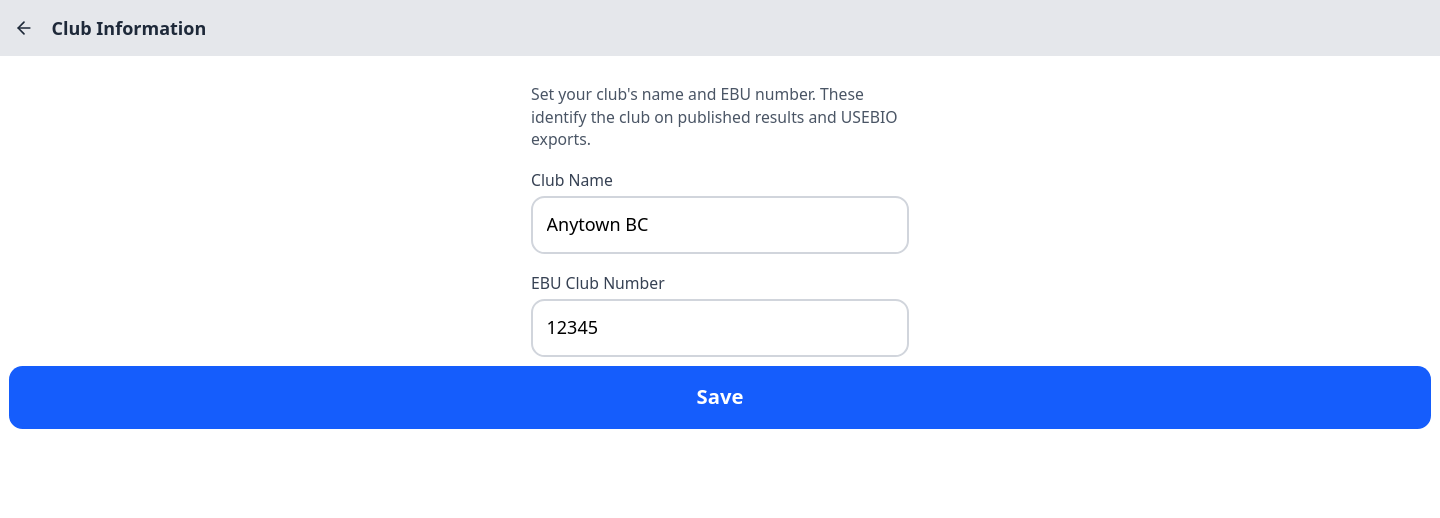
ClubSettingsPage › clears the admin token and prompts to re-enter it on a 401
This screenshot has width=1440, height=518.
Click the button "Save" at (720, 397), box x1=9 y1=366 x2=1431 y2=428
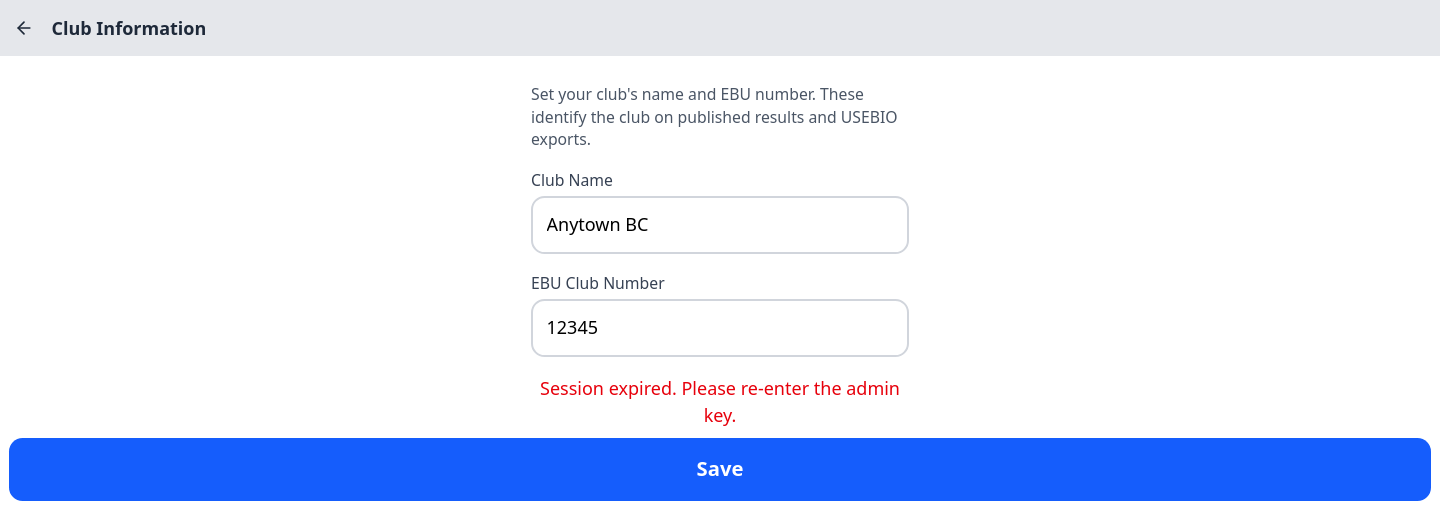
Now the text "Session expired. Please re-enter the admin key." is shown, box x1=531 y1=374 x2=909 y2=428
